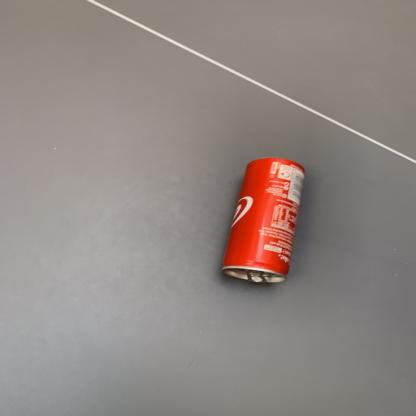trash: (222, 155, 310, 290)
